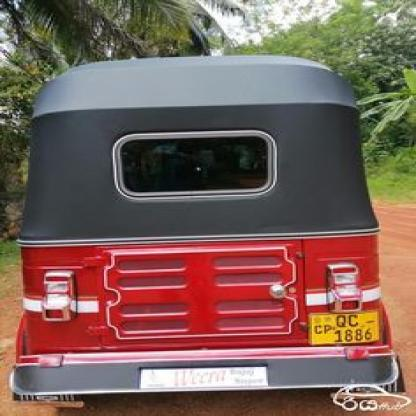number plate: (302, 309, 375, 346)
three wheeler back: (12, 51, 403, 405)
